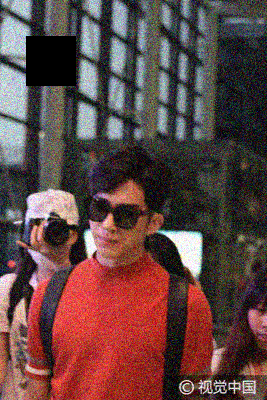without_mask: (89, 193, 149, 258), (249, 300, 267, 349)
